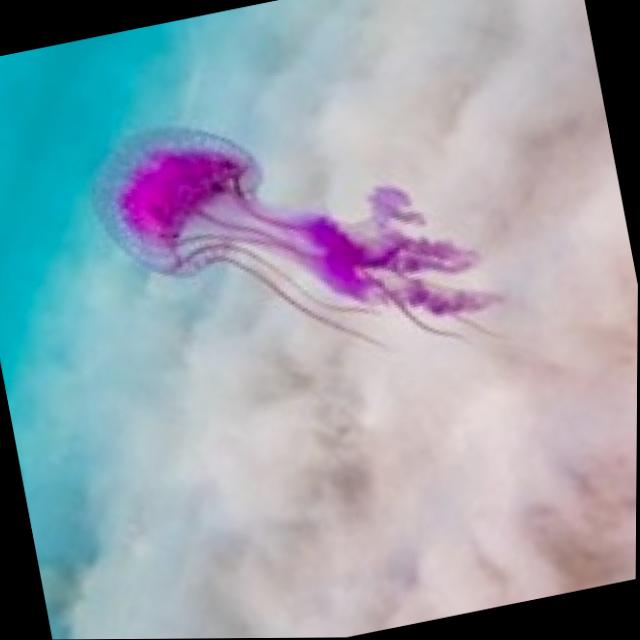Moon-jellyfish: (75, 64, 514, 413)
